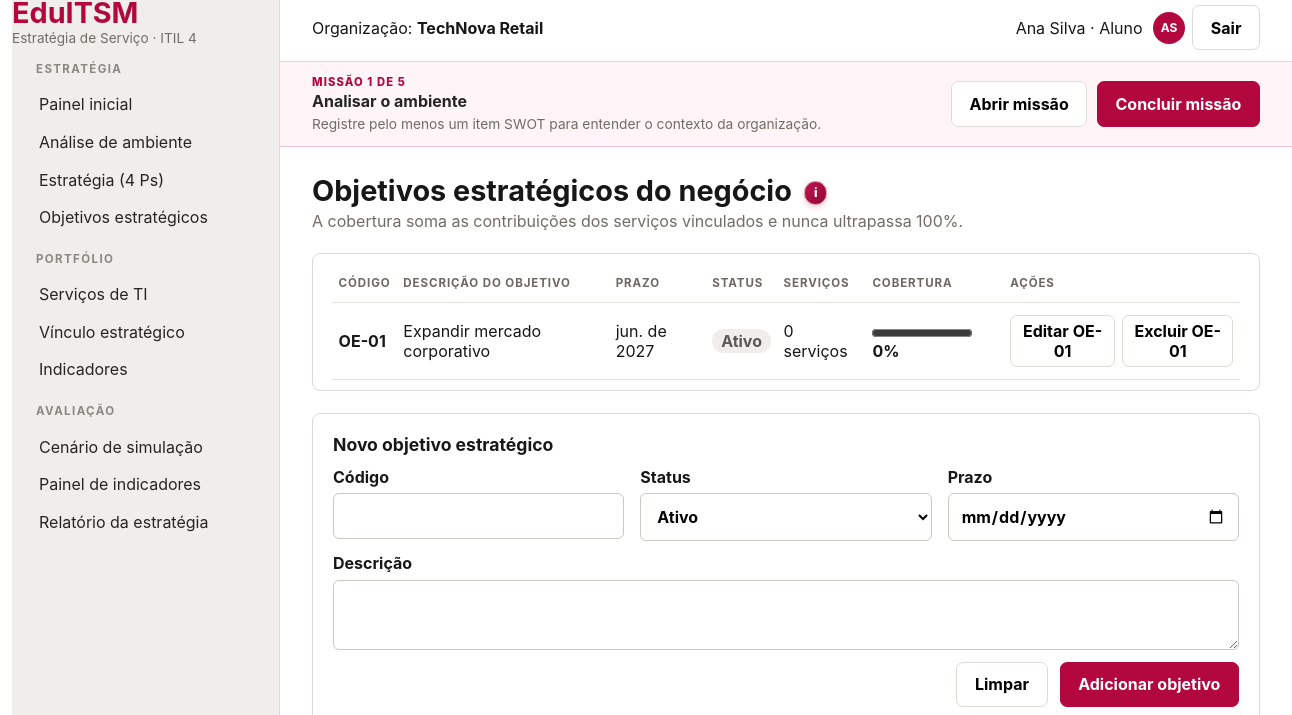
Test: T05 objetivos estratégicos › mostra cobertura sem vínculos e adiciona objetivo com status válido
Expected: the text "0 serviços" is shown, [777, 302, 866, 380]
Type "OE-02" into the field labelled "Código" at (479, 516), box [333, 493, 624, 539]
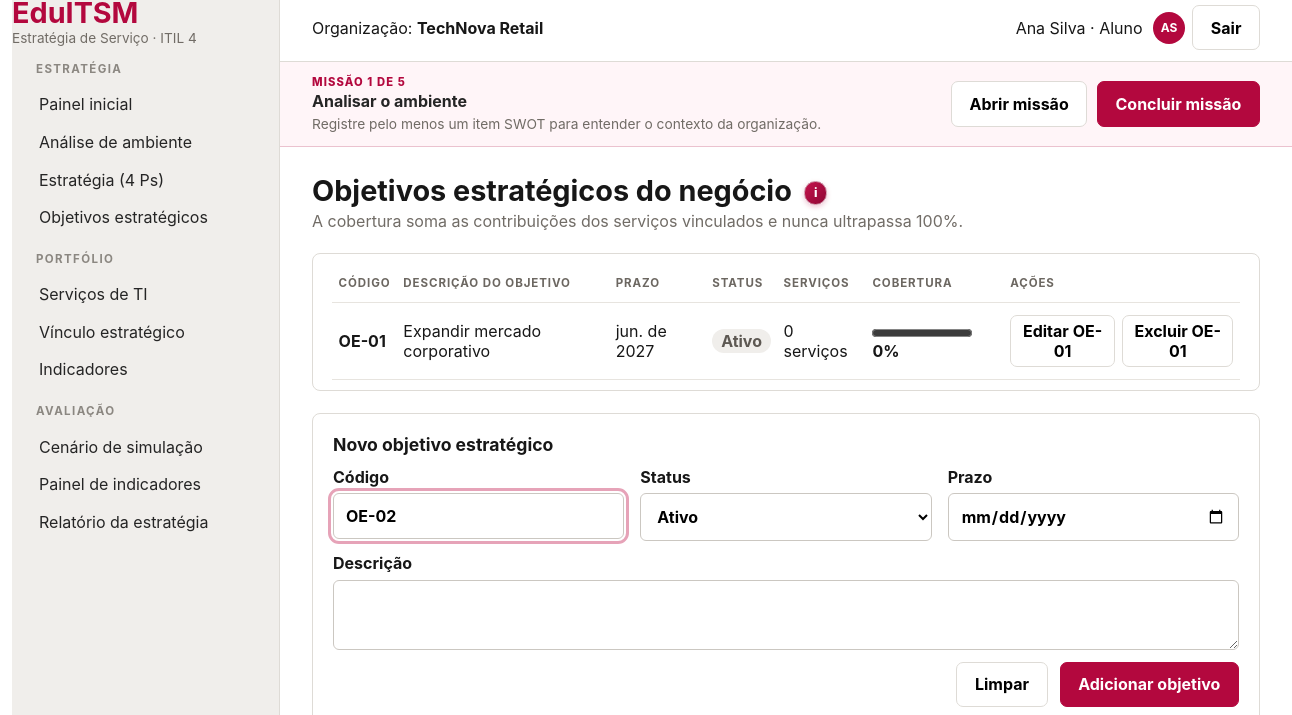
Select "Atingido" in the dropdown labelled "Status" at (786, 517), box [640, 493, 932, 541]
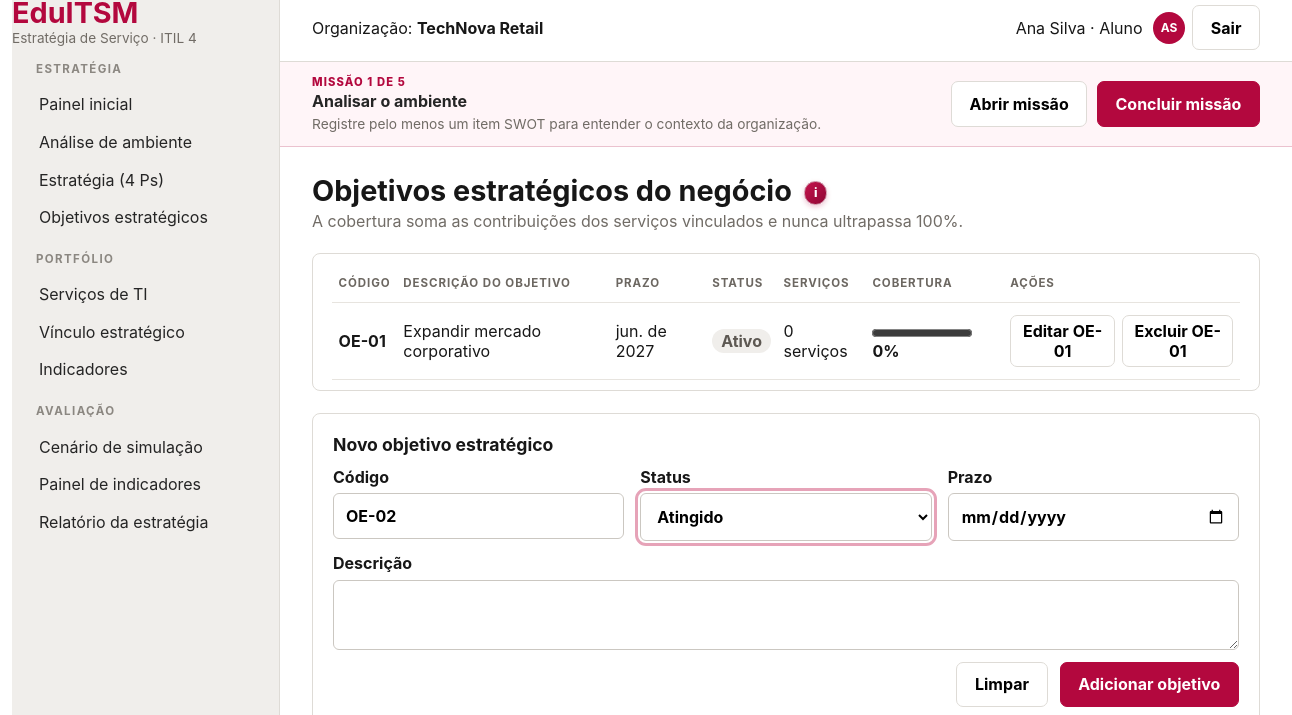
Type "Reduzir custos" into the text box labelled "Descrição" at (786, 615), box [333, 580, 1239, 650]
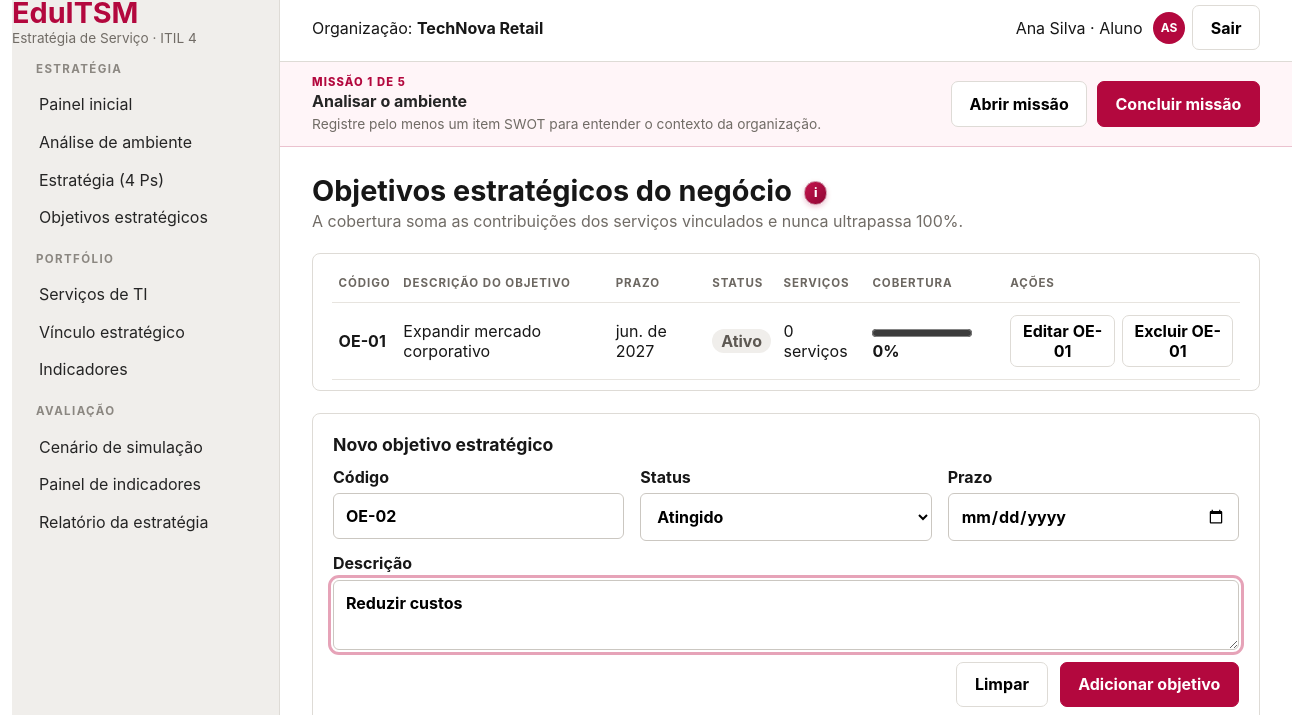
Click the button "Adicionar objetivo" at (1149, 684), box [1060, 662, 1239, 707]
(page scrolled)
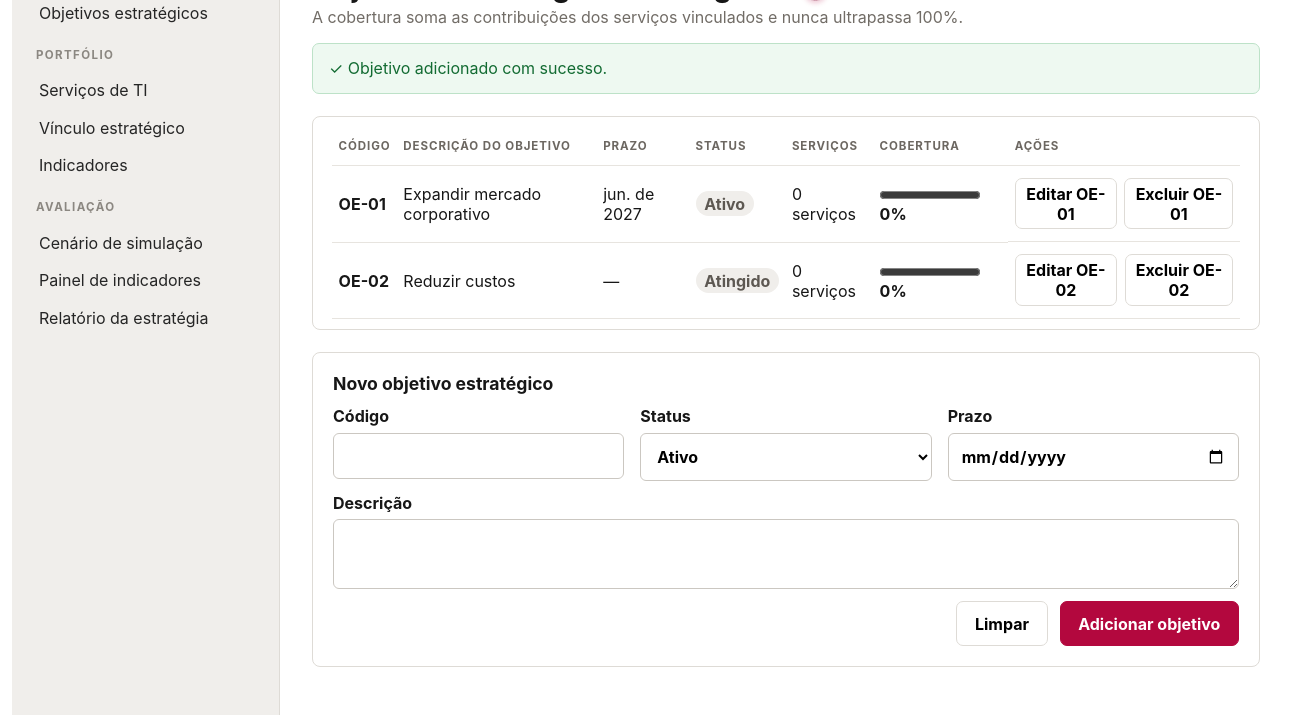
Result: the message shows "Objetivo adicionado com sucesso." at [348, 58, 607, 78]
Result: the field labelled "Código" is empty at [333, 433, 624, 479]
Result: the text box labelled "Descrição" is empty at [333, 519, 1239, 589]
